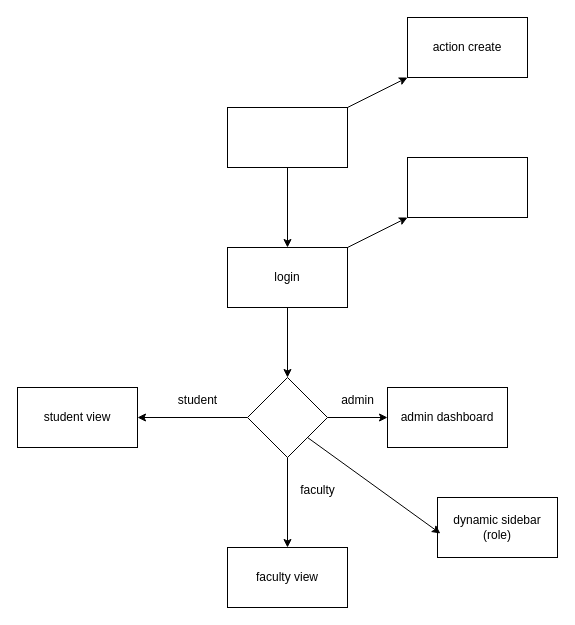
Image size: 575x625. Some labels were removed from this diagram. Here are the shapes that lost their labels. From the top down, the box of each, then its label:
(226, 106, 348, 168): create uesr
(406, 156, 528, 218): action login
(246, 376, 328, 458): if role
